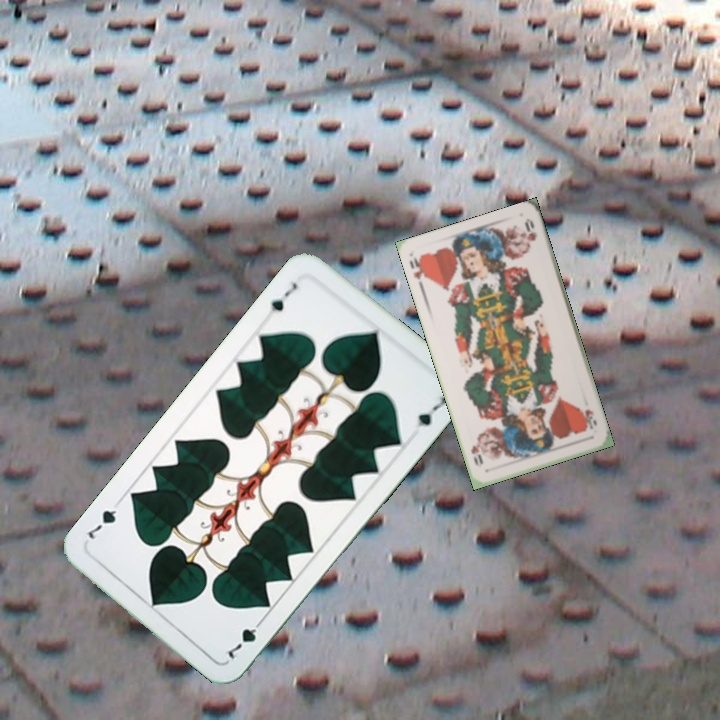G7: (223, 614, 267, 662), (266, 278, 300, 314)
HO: (405, 251, 430, 292), (581, 405, 599, 432)
